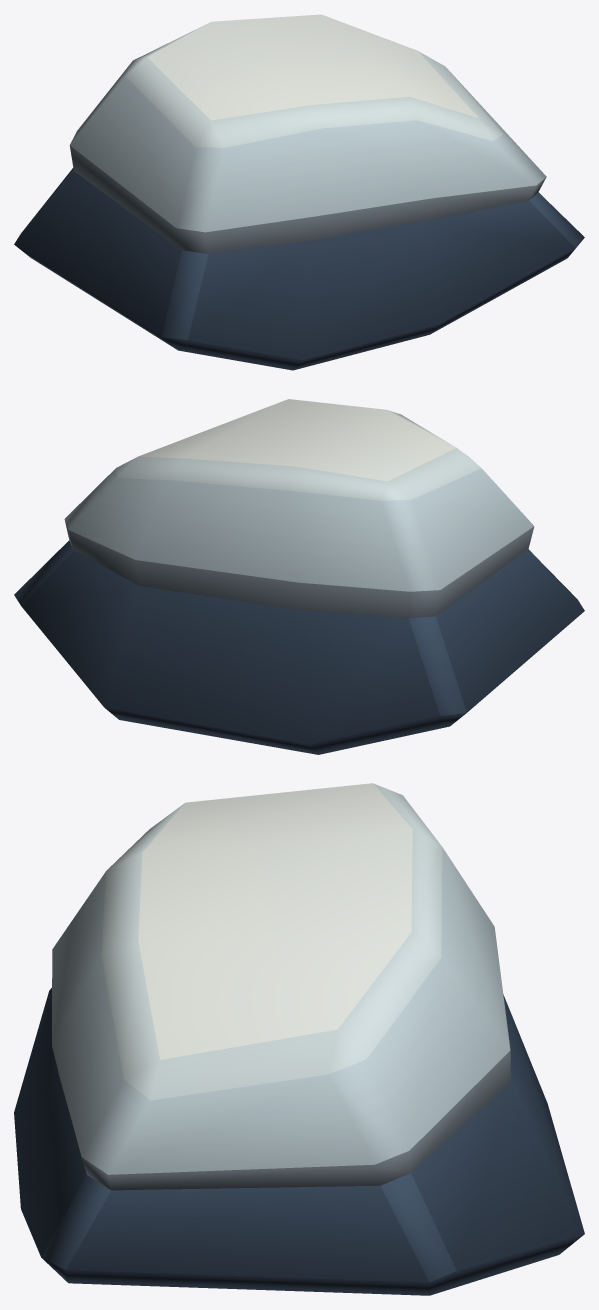
The model's file is rock_snow_016.fbx.
3 renders of one model, top to bottom at view 1: azimuth 30°, elevation 25°; view 2: azimuth 150°, elevation 25°; view 3: azimuth 270°, elevation 25°, orthographic. The views are drawn at different scales.
Visible parts, largest first — view 1: rock_snow_016; view 2: rock_snow_016; view 3: rock_snow_016.
Part boxes in pixels (x1,y1,x2,y2): rock_snow_016: [14, 14, 584, 370]; rock_snow_016: [14, 399, 584, 754]; rock_snow_016: [14, 783, 584, 1295].
Size of the model in its own units: 197 by 100 by 151.
1 material, 1 textured.
